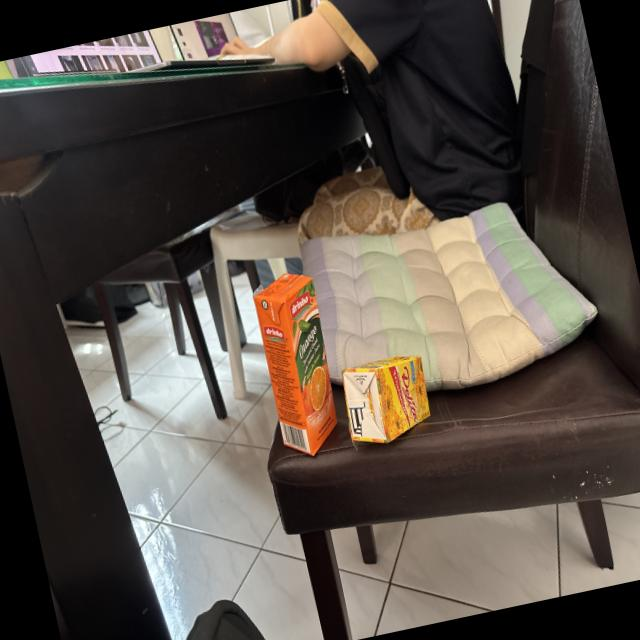drink_carton: (242, 259, 354, 466), (329, 337, 444, 458)
